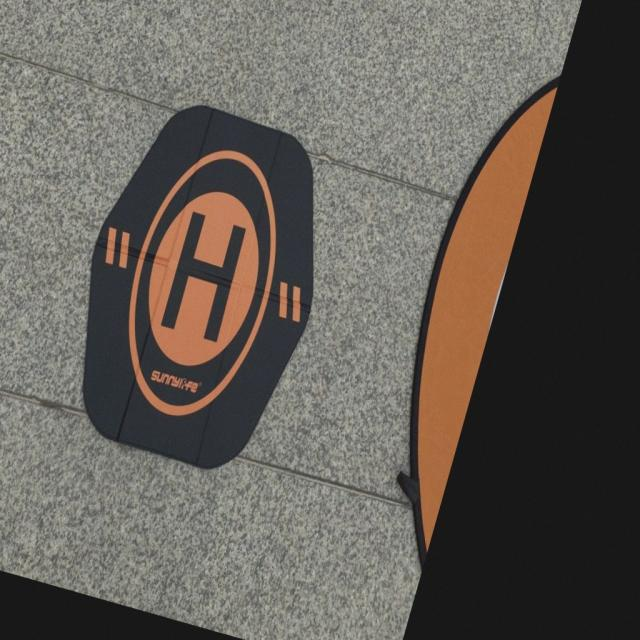helipad: (124, 146, 279, 420)
